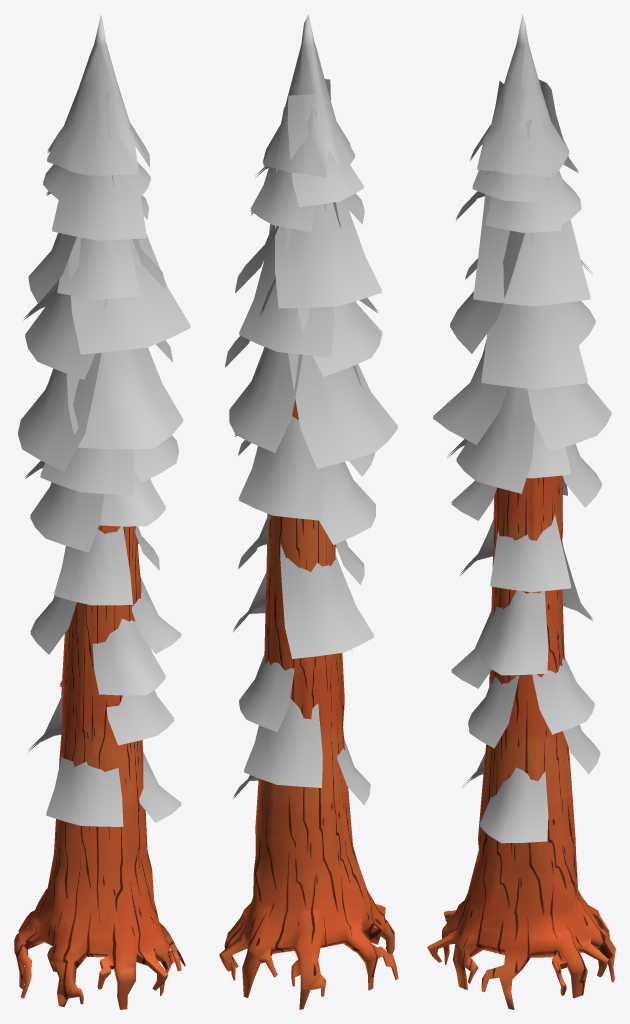
The model's file is Tree01.fbx.
The picture shows the model from 3 angles, left to right: view 1: azimuth 30°, elevation 25°; view 2: azimuth 150°, elevation 25°; view 3: azimuth 270°, elevation 25°; orthographic projection.
Visible parts, largest first — view 1: Tree01; view 2: Tree01; view 3: Tree01.
Boxes of the visible parts, x1=… form: Tree01: x1=14, y1=15, x2=190, y2=1009; Tree01: x1=219, y1=14, x2=398, y2=1009; Tree01: x1=427, y1=14, x2=615, y2=1009.
Bounding box in the file's own units: 416 × 2400 × 427.
